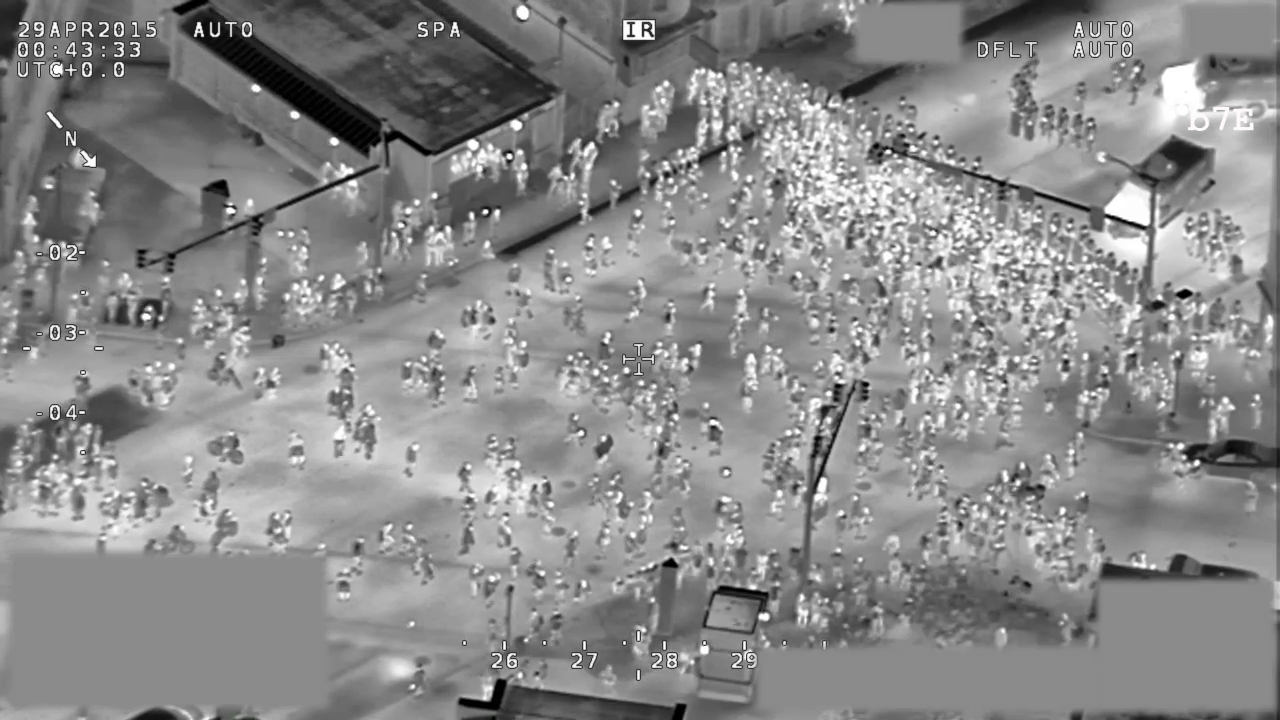vehicle: (1095, 132, 1220, 251), (1160, 52, 1280, 121), (1167, 427, 1280, 492)
